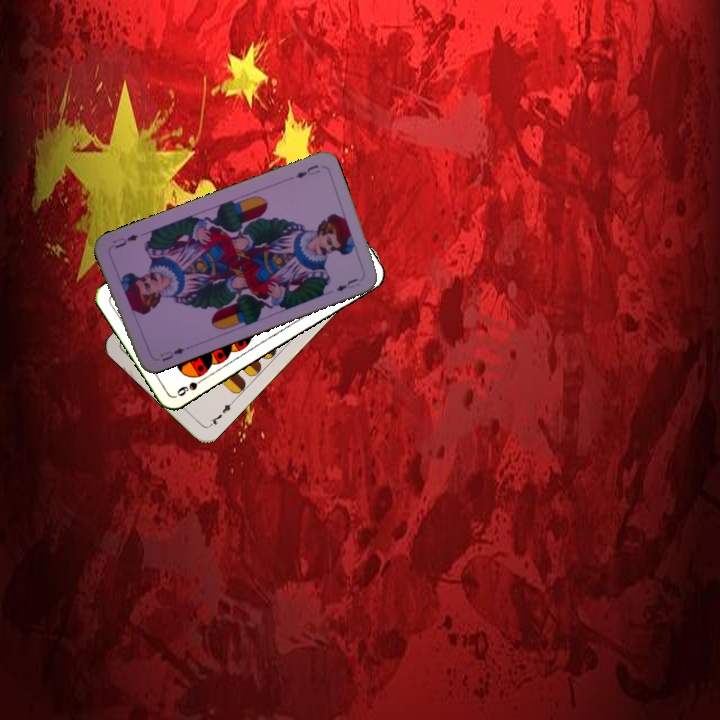E7: (205, 397, 237, 430)
EU: (292, 160, 323, 181), (156, 344, 187, 364)
S9: (173, 373, 210, 399)
